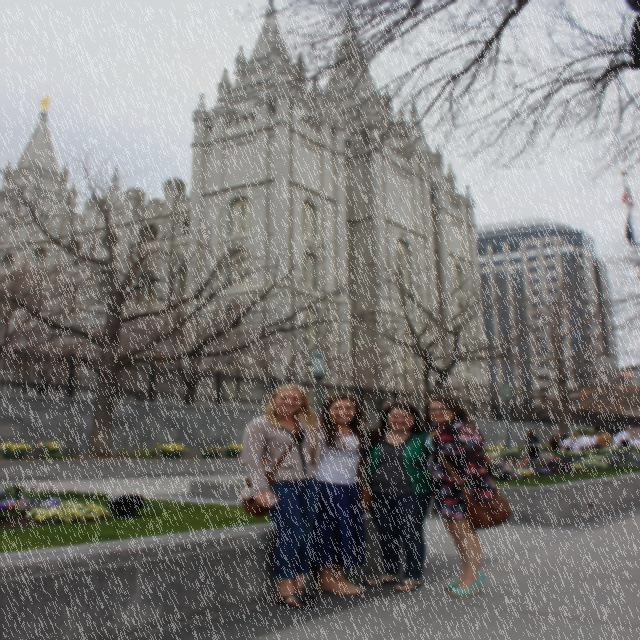pessoa: (356, 401, 496, 591), (258, 392, 374, 594), (418, 392, 514, 598), (238, 382, 322, 610), (570, 432, 596, 460), (526, 430, 542, 459), (612, 428, 632, 449), (597, 430, 614, 450), (548, 435, 562, 459), (570, 432, 583, 452), (562, 435, 574, 452), (590, 432, 600, 450), (612, 436, 624, 450), (557, 431, 568, 444), (634, 436, 640, 454), (560, 432, 569, 442), (628, 438, 635, 449), (586, 433, 594, 438), (635, 433, 639, 442), (597, 433, 604, 437), (556, 436, 562, 440), (580, 432, 585, 436)
